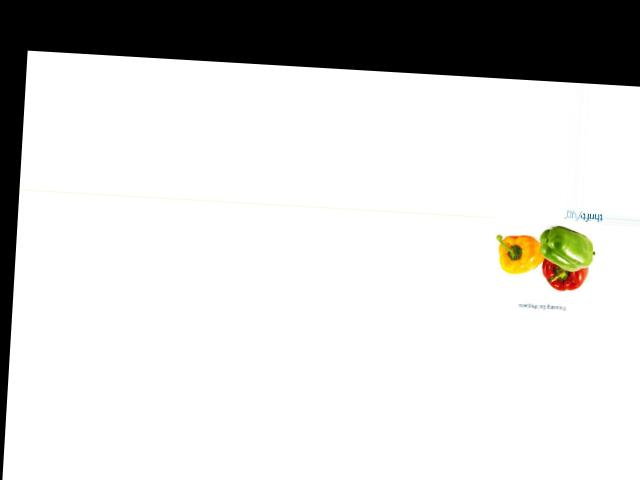bell_pepper: (534, 220, 597, 271)
